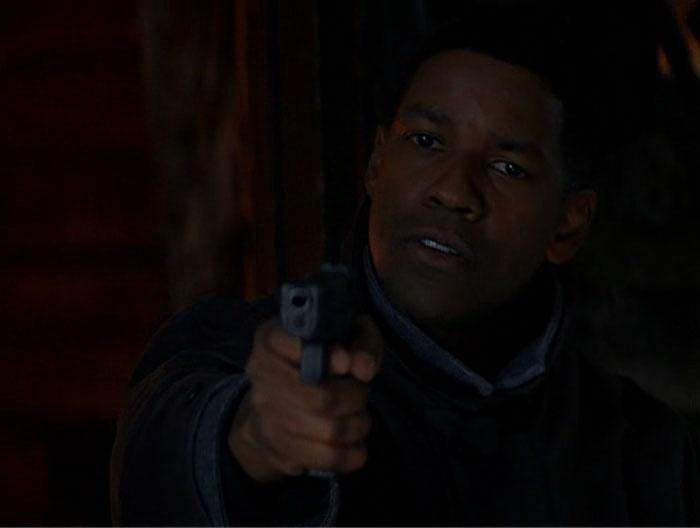gun: (242, 236, 374, 487)
